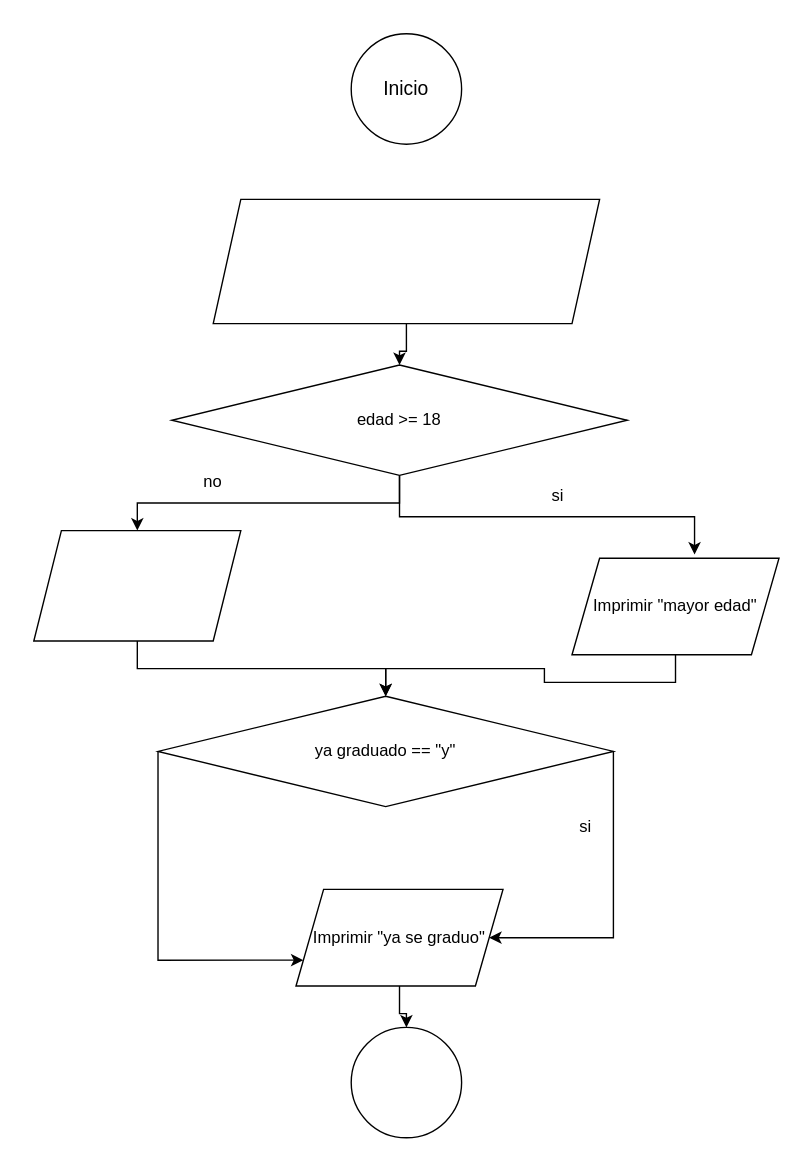
Some shapes in this 803 by 1162 pixel diagram are drawn without their labels. Here are the shapes that lost their labels. From the top down, the centre of each, then its label:
(x=406, y=261): Leer edad, esta_graduado
(x=136, y=585): Imprimir "menor edad"
(x=406, y=1082): Fin
